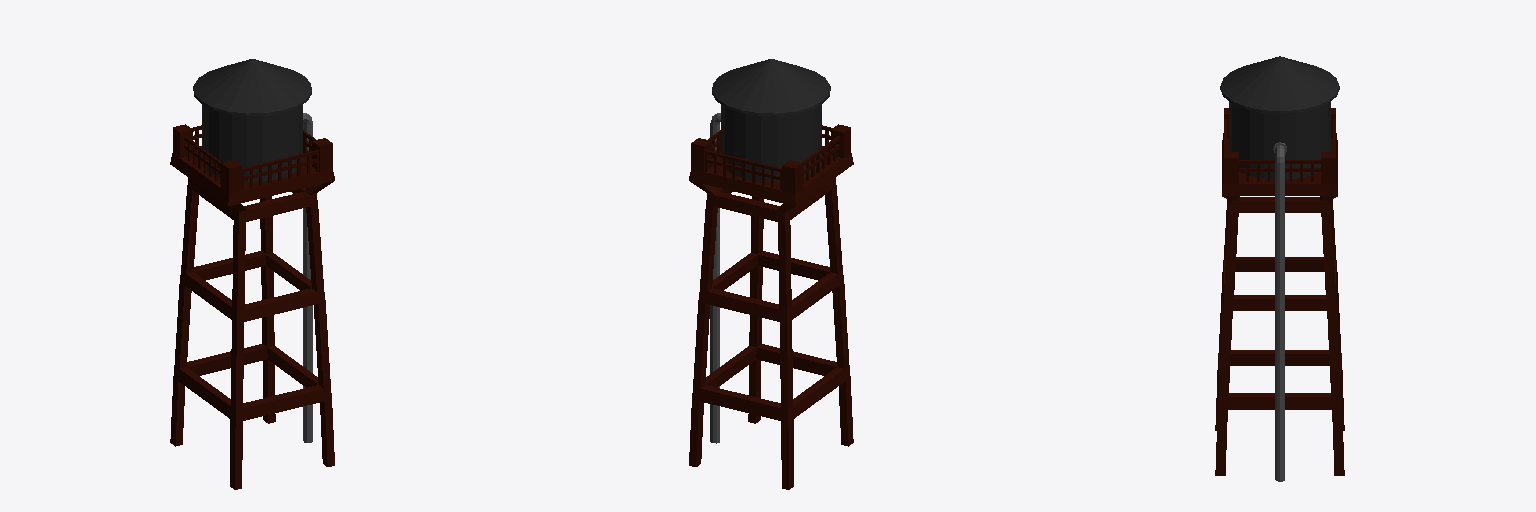
Rendered from WaterTower.obj.
3 renders of one model, left to right at view 1: azimuth 30°, elevation 25°; view 2: azimuth 150°, elevation 25°; view 3: azimuth 270°, elevation 25°, orthographic.
Visible parts, largest first — view 1: WaterTower_Cube.006; view 2: WaterTower_Cube.006; view 3: WaterTower_Cube.006.
Boxes of the visible parts, x1,y1,x2,y2 form: WaterTower_Cube.006: [170, 59, 334, 489]; WaterTower_Cube.006: [689, 59, 853, 489]; WaterTower_Cube.006: [1215, 56, 1344, 481].
Bounding box in the file's own units: 2.53 × 8.43 × 2.49.